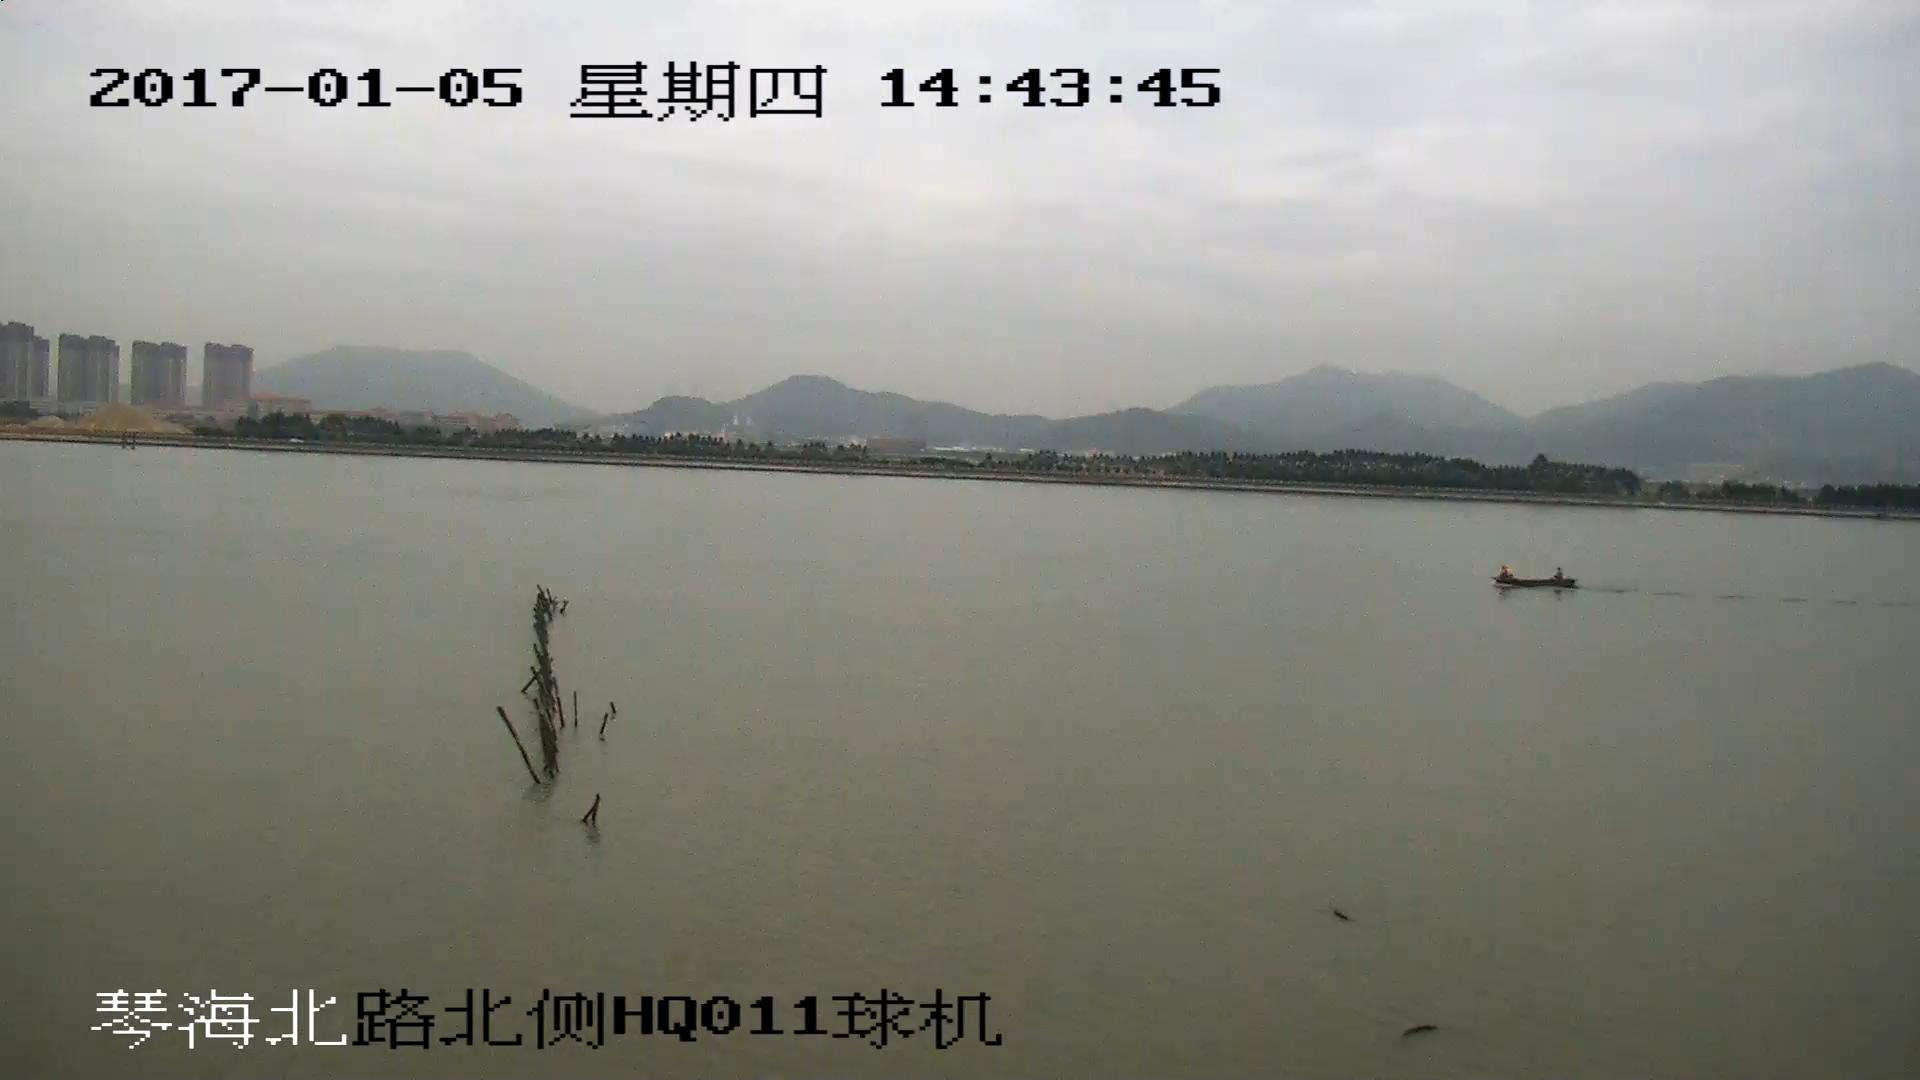fishing boat: (1488, 561, 1580, 592)
